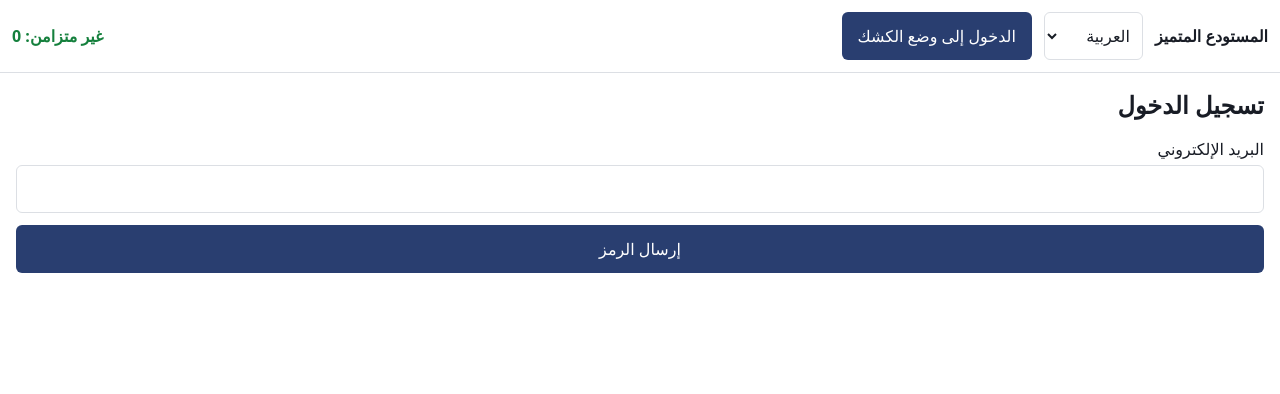
Test: PDA "/login" route — real router + mockClient wiring (fix round 1, finding 1) › a wrong code through the real mockClient shows the uniform invalid-code error and stays on "/login"
This screenshot has width=1280, height=394.
Expected: the heading "تسجيل الدخول" is shown, [1118, 88, 1264, 121]
In the field labelled "البريد الإلكتروني": (640, 189) [16, 165, 1264, 213], type "picker@warehouse.example"
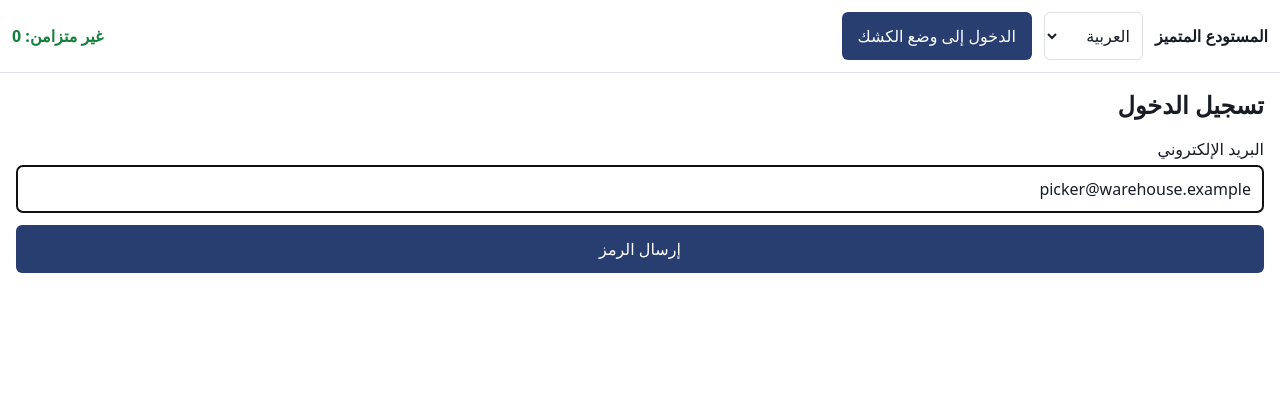
Click the button "إرسال الرمز": click(640, 249) [16, 225, 1264, 273]
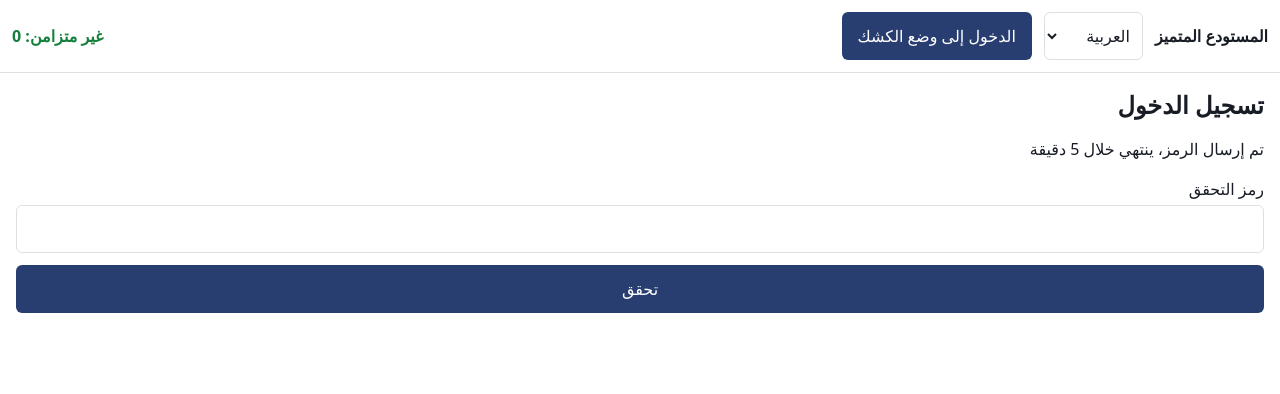
In the field labelled "رمز التحقق": (640, 229) [16, 205, 1264, 253], type "000000"
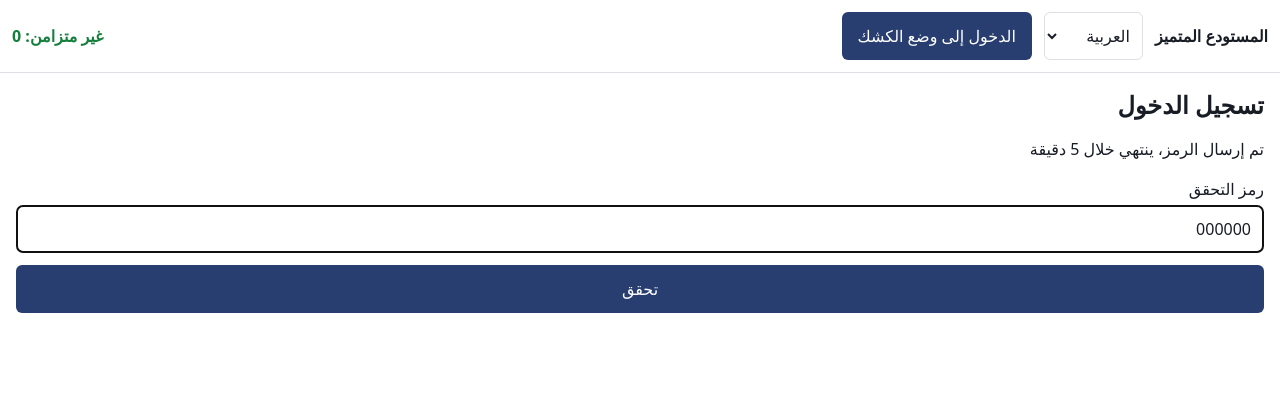
Click the button "تحقق": click(640, 289) [16, 265, 1264, 313]
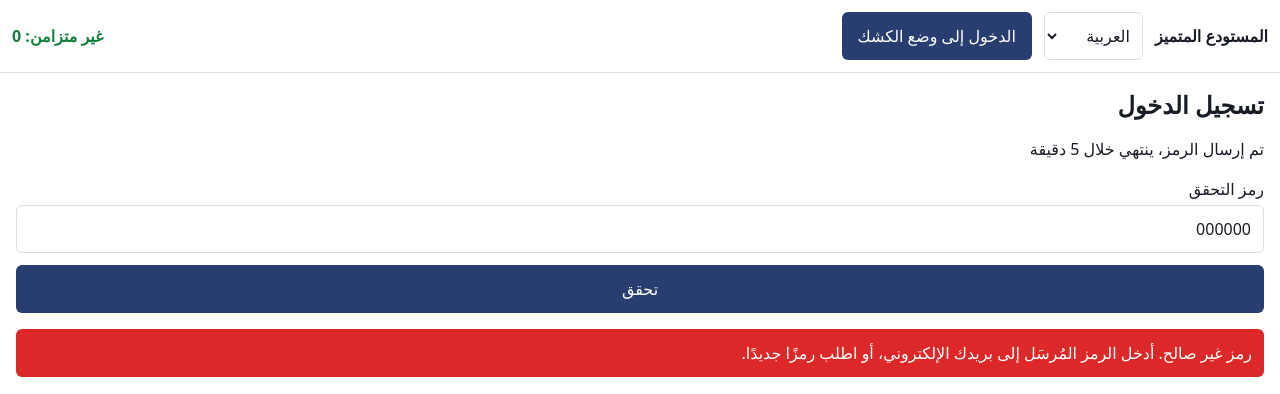
Expected: the text "رمز غير صالح. أدخل الرمز المُرسَل إلى بريدك الإلكتروني، أو اطلب رمزًا جديدًا." is shown, [16, 329, 1264, 377]
